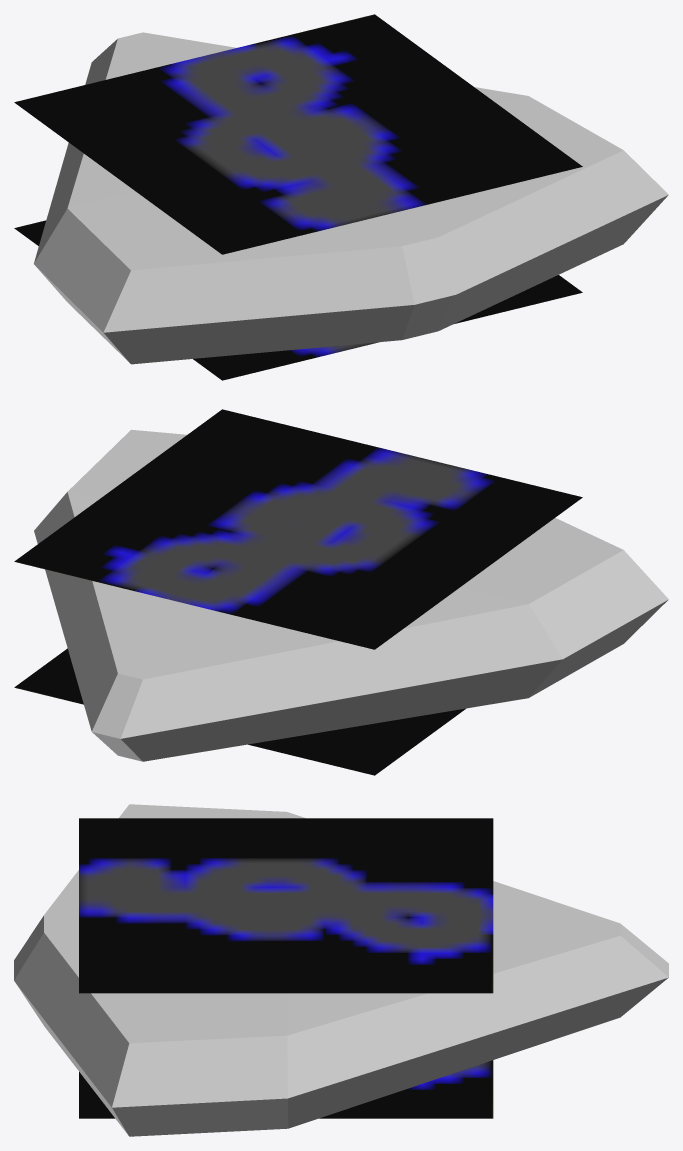
The model's file is Powerup.fbx.
3 views of the same model, one above another, from view 1: azimuth 30°, elevation 25°; view 2: azimuth 150°, elevation 25°; view 3: azimuth 270°, elevation 25° (orthographic).
Parts seen in each view (by area): view 1: UpgradeBaseModel; view 2: UpgradeBaseModel; view 3: UpgradeBaseModel.
Part boxes in pixels (left/top/right/bottom): UpgradeBaseModel: left=14, top=14, right=668, bottom=380; UpgradeBaseModel: left=14, top=409, right=668, bottom=775; UpgradeBaseModel: left=14, top=804, right=668, bottom=1136.
Bounding box in the file's own units: 282 × 60 × 285.
